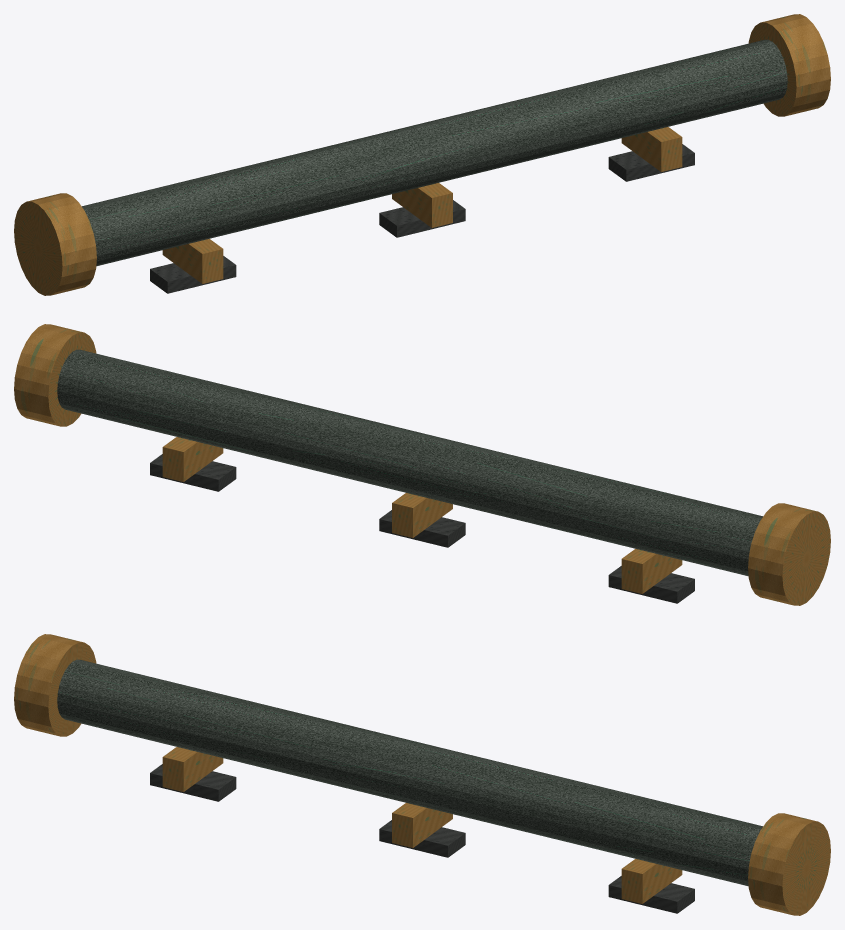
The model's file is SM_PipeRun_Straight_4m.obj.
3 renders of one model, top to bottom at view 1: azimuth 30°, elevation 25°; view 2: azimuth 150°, elevation 25°; view 3: azimuth 330°, elevation 25°, orthographic.
Parts seen in each view (by area): view 1: Main_PipeCylinder, Brass_EndFlanges, Pipe_HangerStraps, Pipe_MountingFeet; view 2: Main_PipeCylinder, Brass_EndFlanges, Pipe_HangerStraps, Pipe_MountingFeet; view 3: Main_PipeCylinder, Brass_EndFlanges, Pipe_HangerStraps, Pipe_MountingFeet.
Boxes of the visible parts, left/top/right/bottom form: Main_PipeCylinder: left=82, top=39, right=787, bottom=266; Brass_EndFlanges: left=14, top=14, right=830, bottom=295; Pipe_HangerStraps: left=162, top=127, right=682, bottom=283; Pipe_MountingFeet: left=150, top=144, right=694, bottom=293; Main_PipeCylinder: left=57, top=349, right=762, bottom=576; Brass_EndFlanges: left=14, top=324, right=830, bottom=605; Pipe_HangerStraps: left=162, top=437, right=682, bottom=593; Pipe_MountingFeet: left=150, top=454, right=694, bottom=603; Main_PipeCylinder: left=57, top=659, right=762, bottom=886; Brass_EndFlanges: left=14, top=634, right=830, bottom=915; Pipe_HangerStraps: left=162, top=747, right=682, bottom=903; Pipe_MountingFeet: left=150, top=764, right=694, bottom=913.
Bounding box in the file's own units: 4.02 × 0.56 × 0.44.
3 materials, 3 textured.
